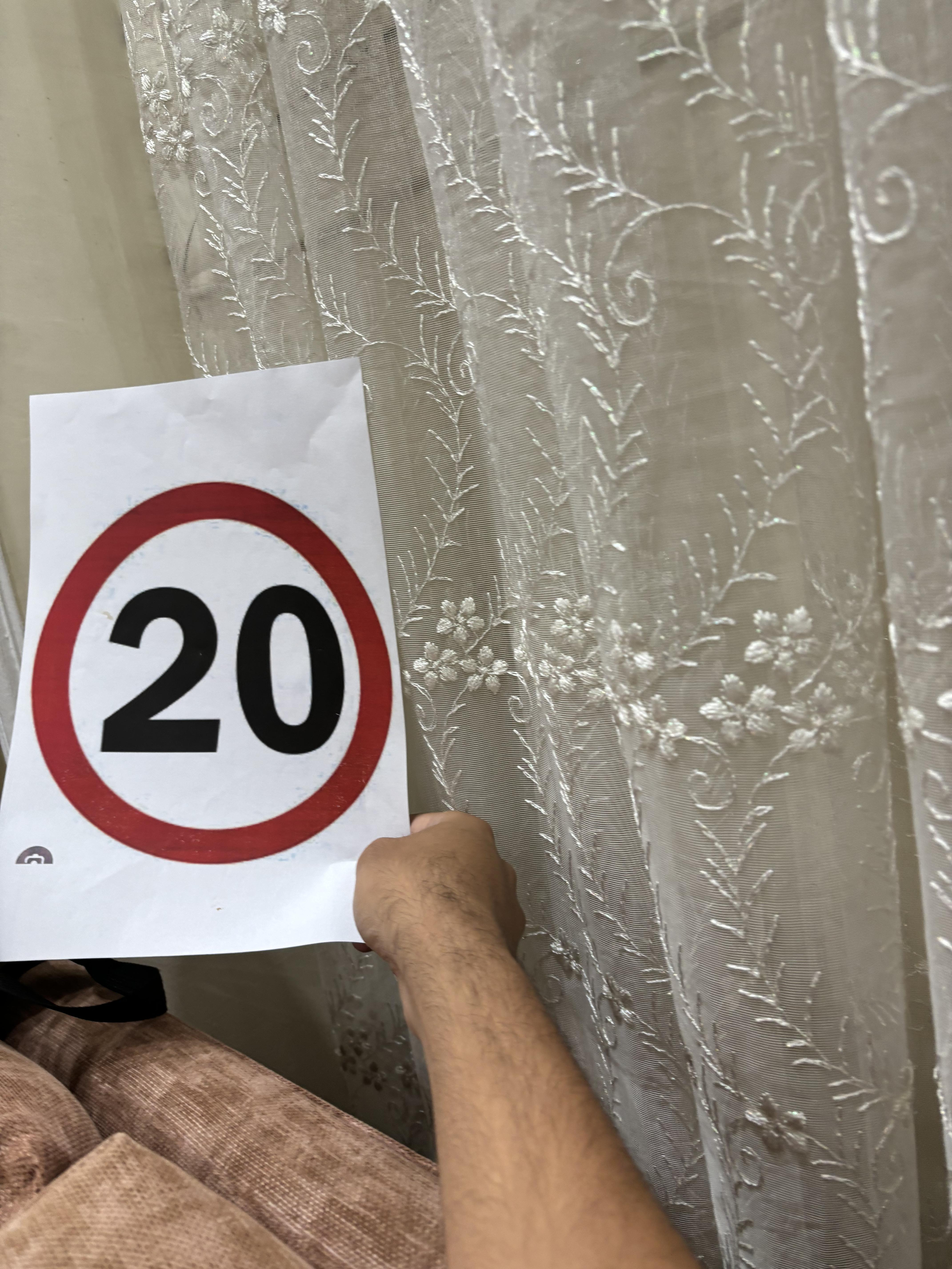20-Speed: (20, 480, 386, 854)
